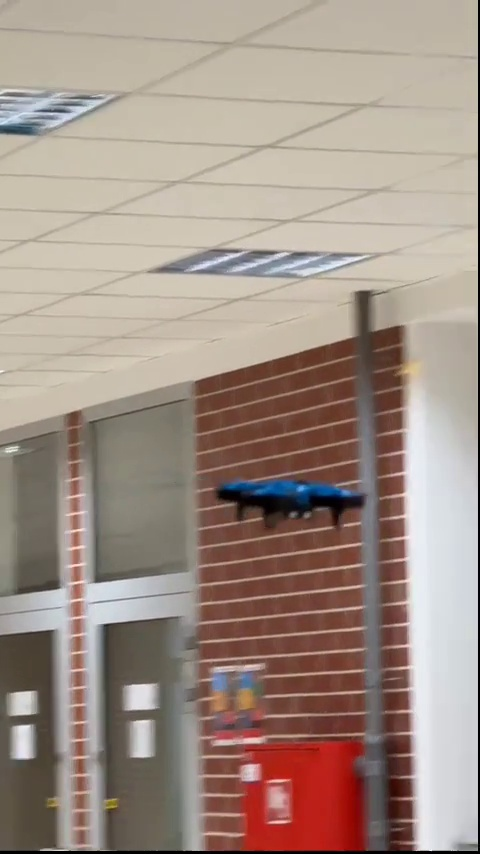drone: (219, 475, 365, 529)
